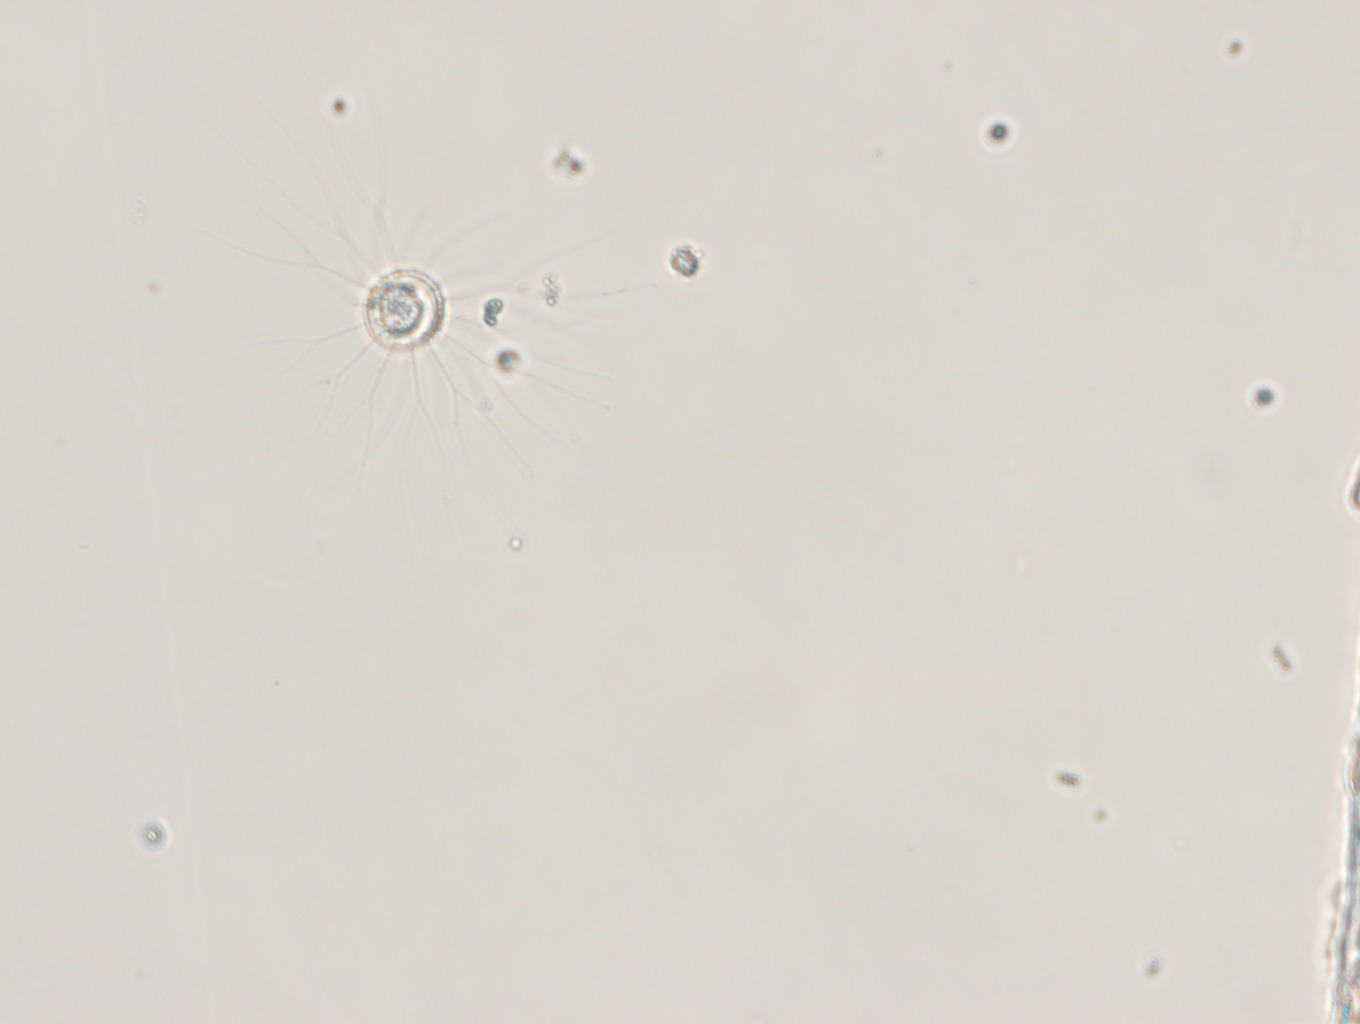bacteriastrum: (252, 129, 629, 499)
